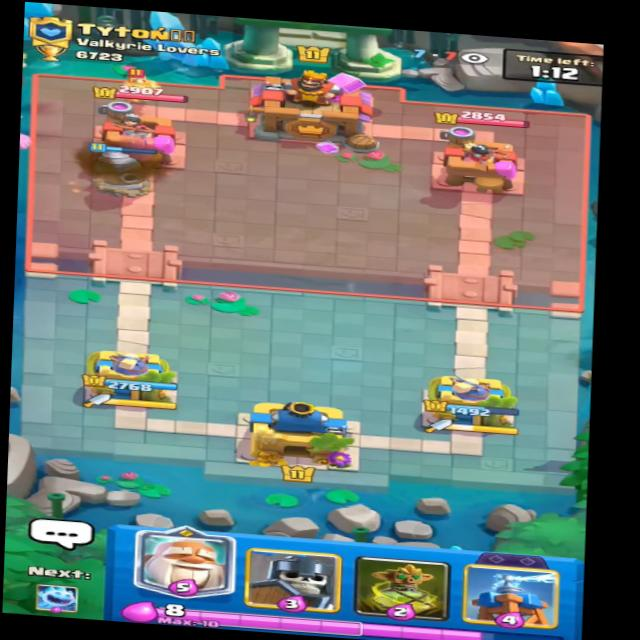wizard: (103, 61, 171, 107)
